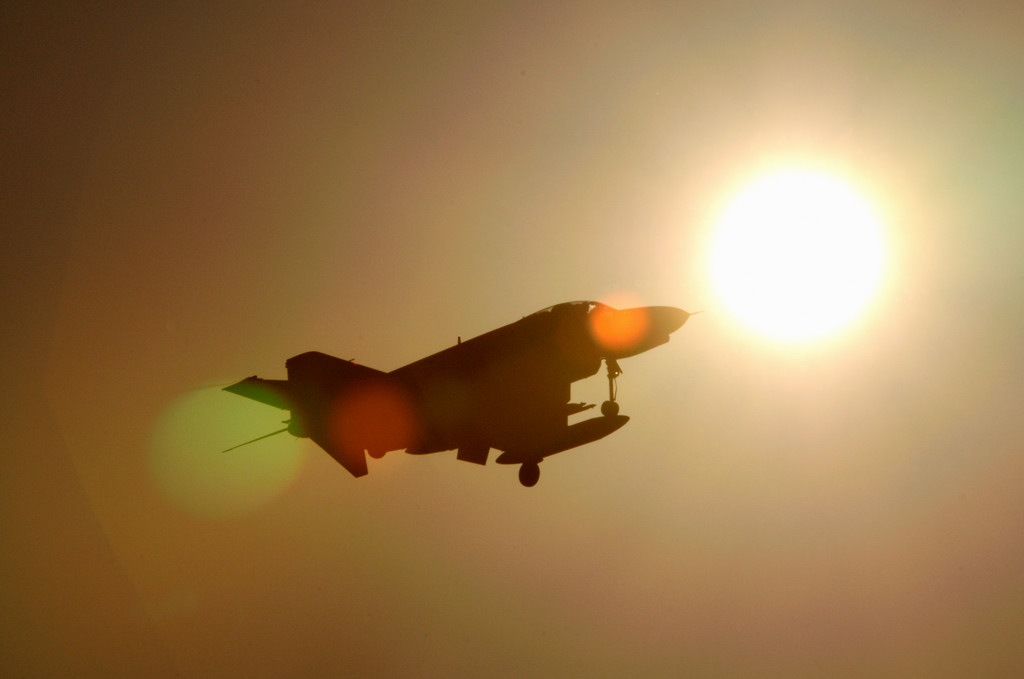F4: (219, 299, 706, 488)
